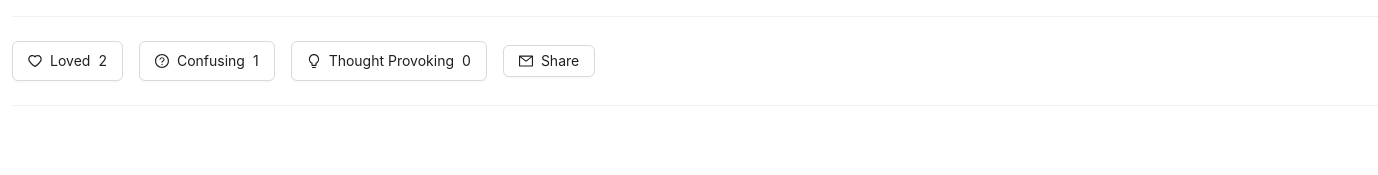
Test: ReactionsBar › shows an accessible warning and keeps counts stable when an update fails
The width and height of the screenshot is (1378, 175).
Click the button with aria-label "Confusing. 1 reaction": (207, 61) [139, 41, 275, 81]
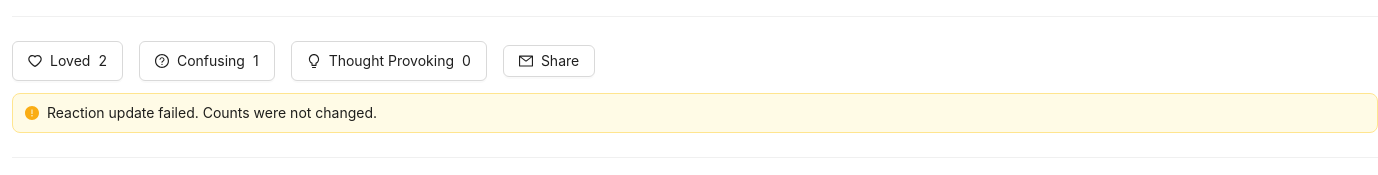
Expected: the message reads "Reaction update failed. Counts were not changed.", [47, 104, 377, 121]
